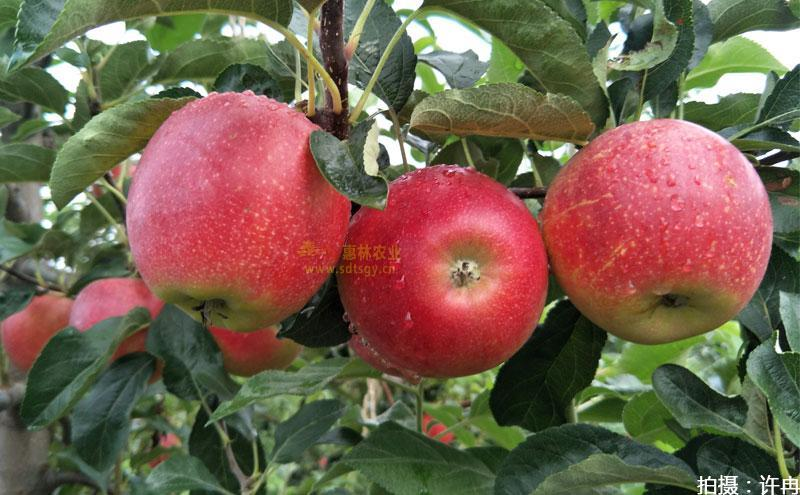apple: (128, 89, 356, 339), (542, 119, 777, 344), (336, 162, 550, 381)
